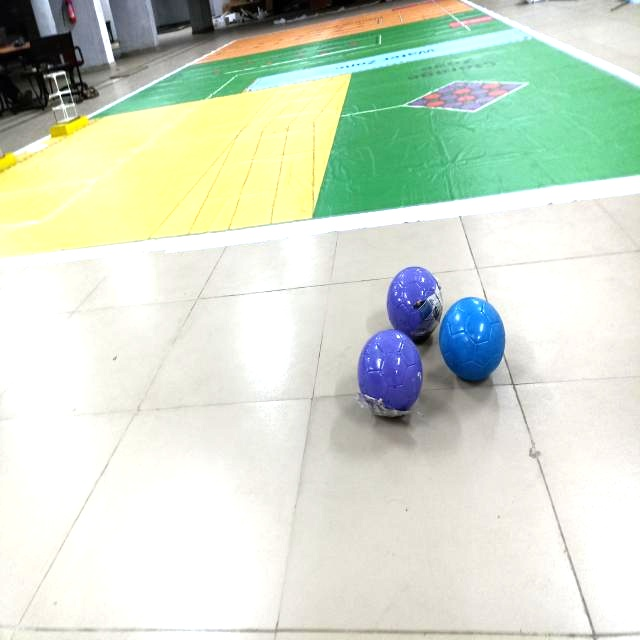blue_ball: (438, 294, 508, 393)
purple_ball: (356, 328, 434, 421), (387, 256, 439, 351)
silo: (40, 57, 86, 137)
